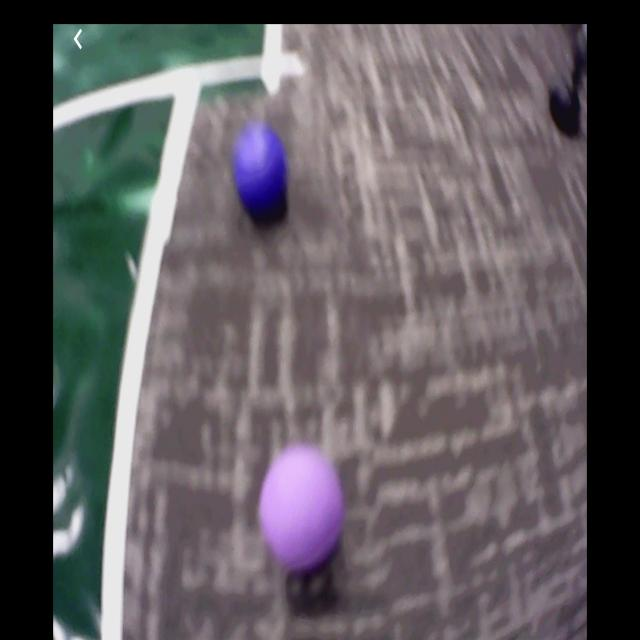ball: (261, 445, 343, 566), (234, 127, 287, 209)
